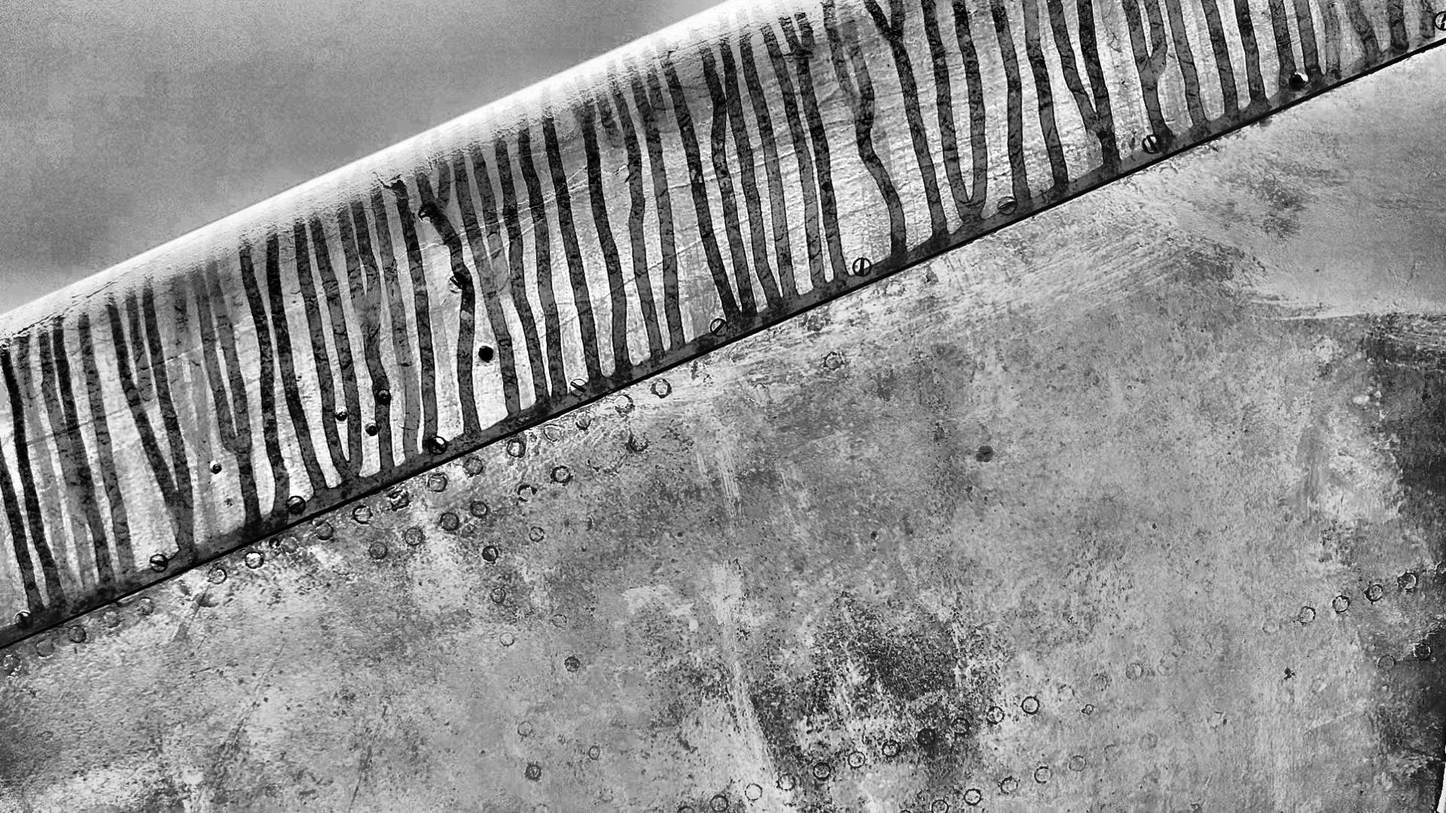missing-head: (1290, 72, 1309, 90), (476, 343, 493, 363)
scratch: (550, 205, 774, 335), (442, 171, 595, 243), (753, 83, 844, 154), (676, 145, 804, 190)
